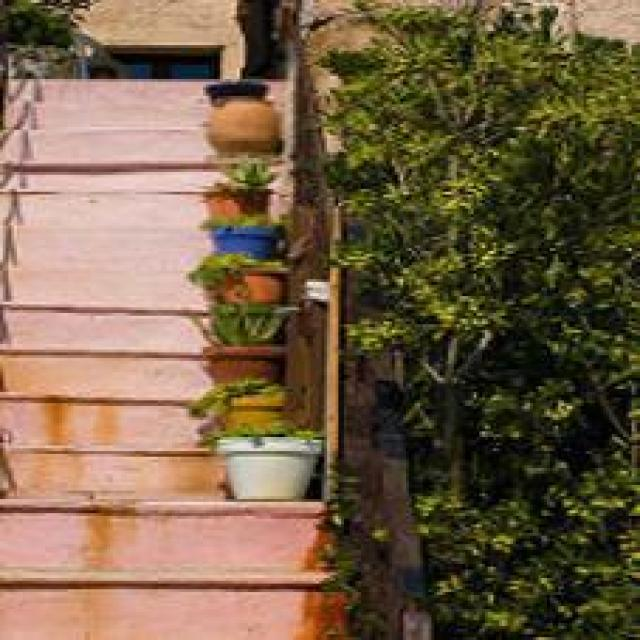upstair: (7, 300, 337, 618)
